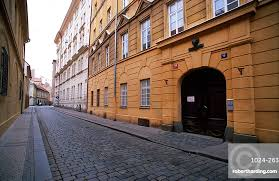strada: (7, 123, 264, 179)
